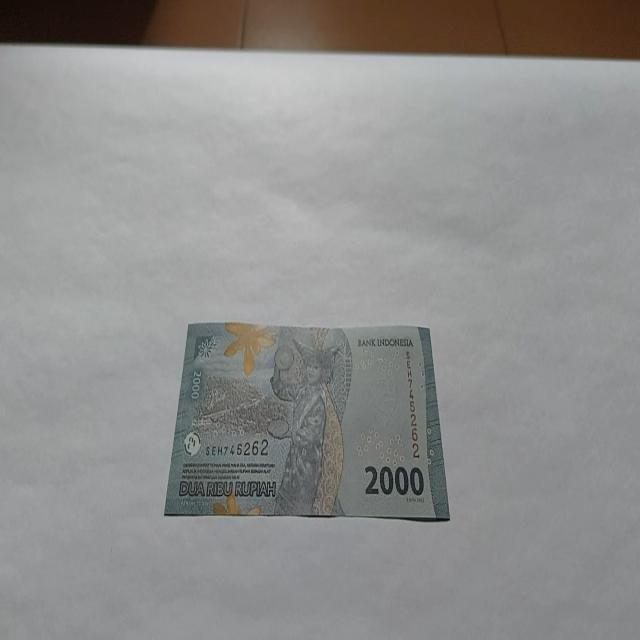dua ribu rupiah: (164, 320, 450, 521)
